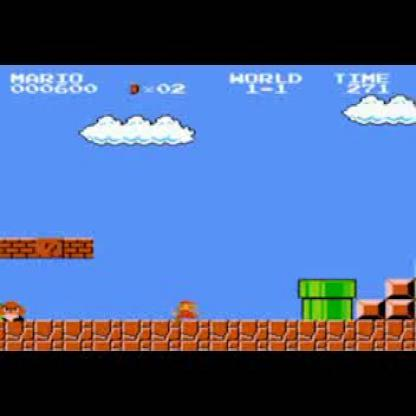Goomba: (2, 301, 24, 321)
